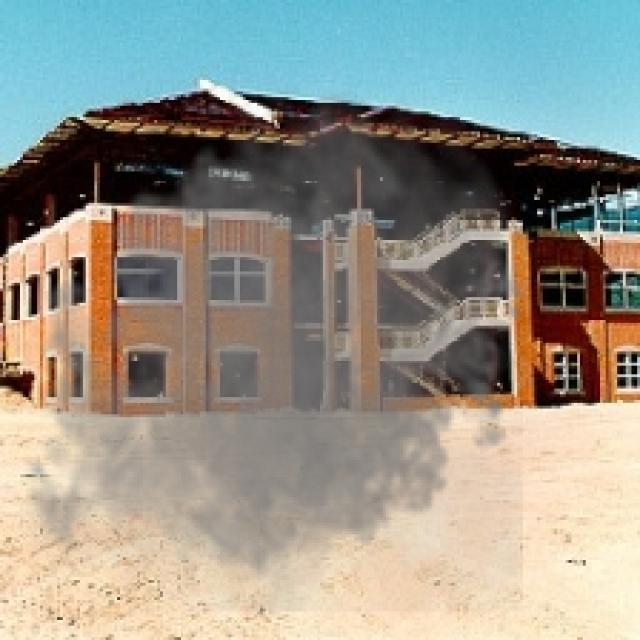Smoke: (12, 71, 534, 612)
